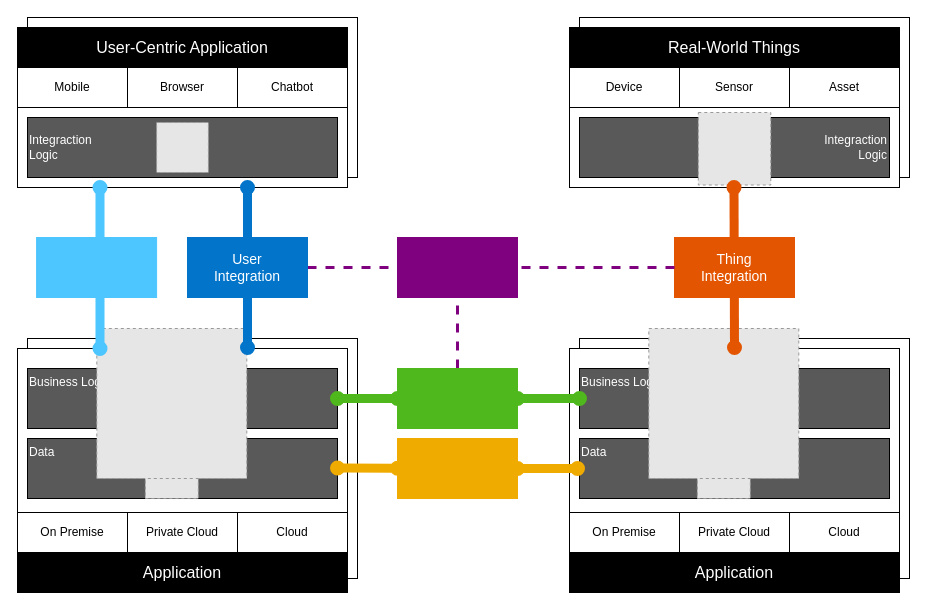
Some shapes in this 927 by 610 pixel diagram are drawn without their labels. Grey dashed boxes stand in for pictures. Each missing label, with the centre of its shape:
"Analytics Integration" goes at [96,267].
"Cross Use Cases" goes at [457,267].
"Data Integration" goes at [457,468].
"Process Integration" goes at [457,398].
